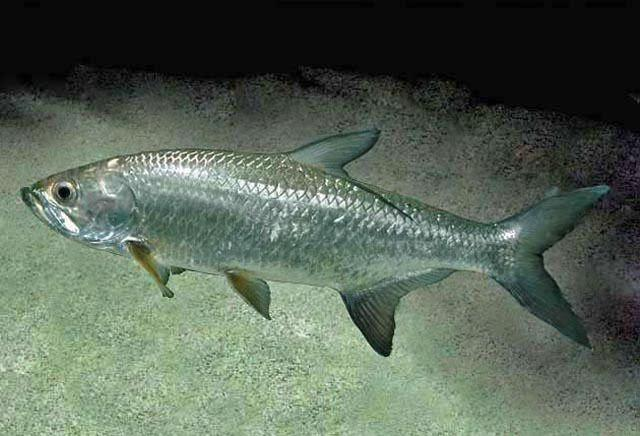Indo-Pacific Tarpon: (24, 129, 601, 364)
